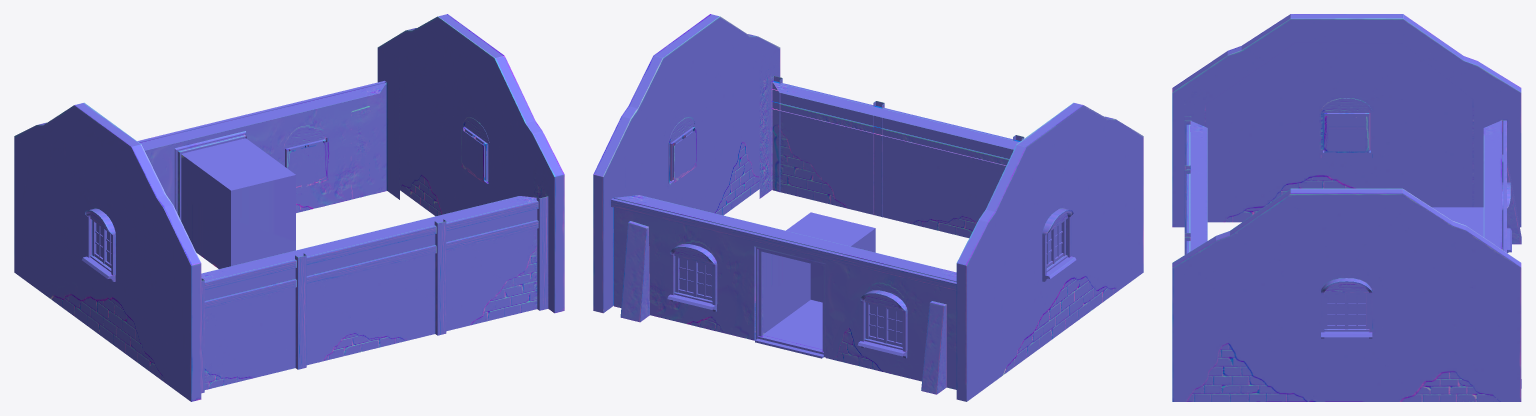
The model's file is House_FileneA_Base_Bmap.fbx.
3 renders of one model, left to right at view 1: azimuth 30°, elevation 25°; view 2: azimuth 150°, elevation 25°; view 3: azimuth 270°, elevation 25°, orthographic.
Parts seen in each view (by area): view 1: House_FileneA_Base_Bmap; view 2: House_FileneA_Base_Bmap; view 3: House_FileneA_Base_Bmap.
Boxes of the visible parts, x1,y1,x2,y2 form: House_FileneA_Base_Bmap: (14,14,564,401); House_FileneA_Base_Bmap: (593,14,1143,401); House_FileneA_Base_Bmap: (1172,14,1521,401).
Bounding box in the file's own units: 1144 × 593 × 900.
1 material, 1 textured.
